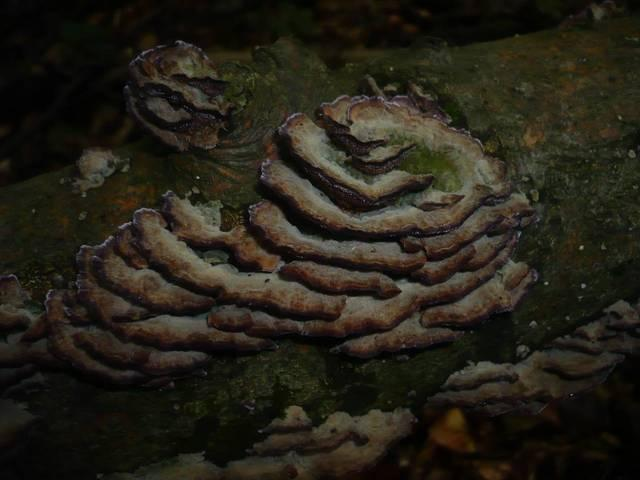Non-edible Mushroom: (36, 90, 530, 369), (451, 290, 640, 467), (209, 399, 424, 480), (122, 38, 238, 153)
